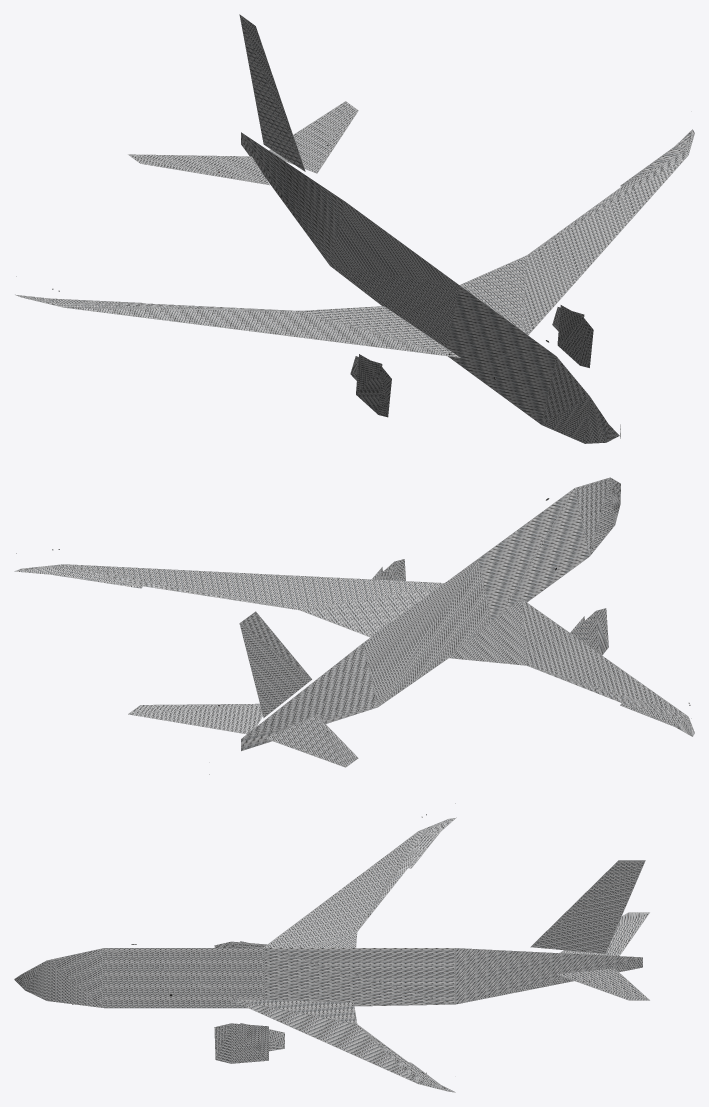
File: TFS_B772PW_LOD1.gltf
3 views of the same model, one above another, from view 1: azimuth 30°, elevation 25°; view 2: azimuth 150°, elevation 25°; view 3: azimuth 270°, elevation 25° (orthographic). The views are drawn at different scales.
Visible parts, largest first — view 1: low_poly_model; view 2: low_poly_model; view 3: low_poly_model.
Part boxes in pixels (x1,y1,x2,y2): low_poly_model: (15,14,694,443); low_poly_model: (14,477,694,767); low_poly_model: (14,817,649,1092).
Size of the model in its own units: 65.39 by 17.6 by 68.44.
